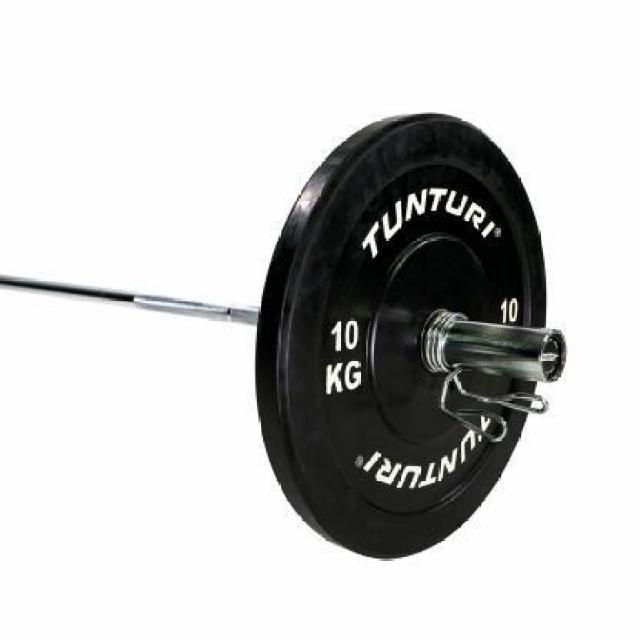Barbell: (525, 318, 584, 396)
